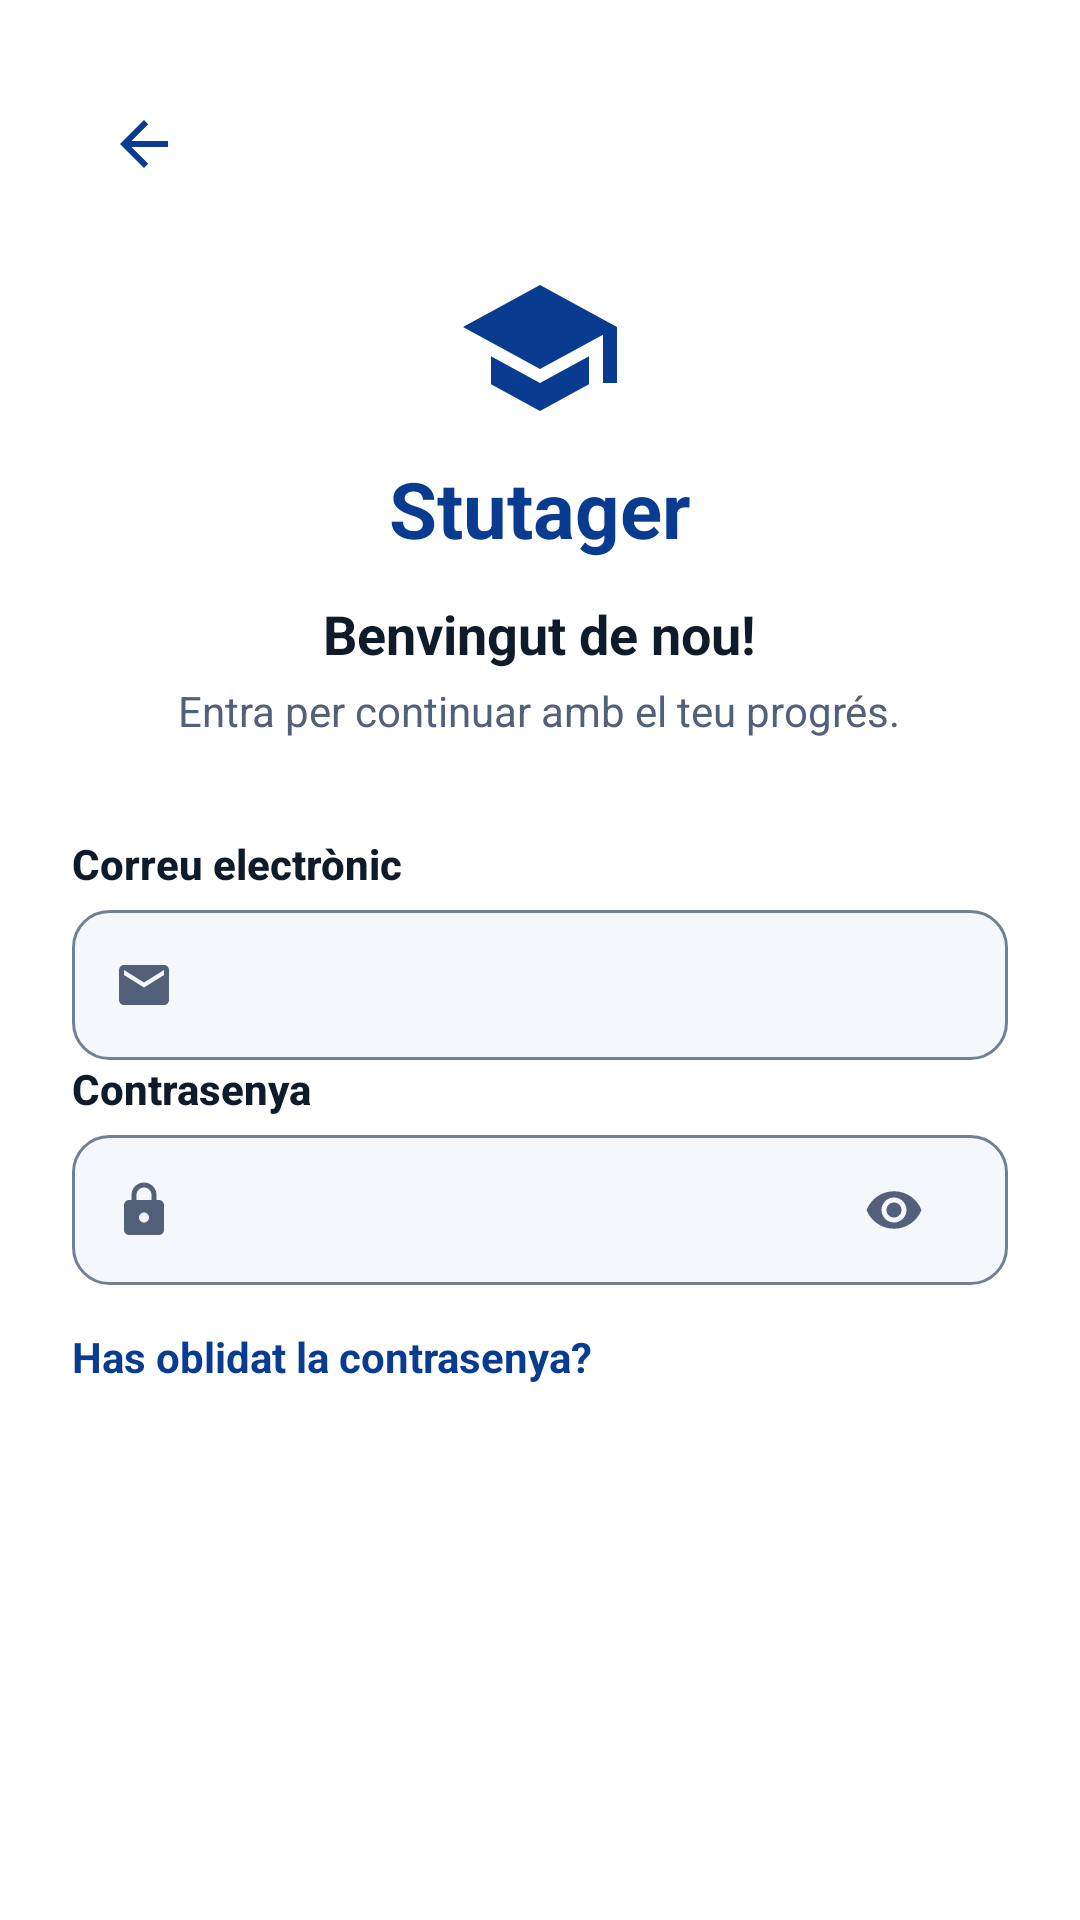

Icon bounding boxes for this 1080px x 1920px phone screenshot, format (x1=x1, y1=y1, x2=x2, y2=y2):
email: (x1=119, y1=965, x2=169, y2=1005)
graduation cap: (x1=463, y1=285, x2=617, y2=411)
lock: (x1=124, y1=1182, x2=164, y2=1235)
Mostra la contrasenya: (x1=866, y1=1191, x2=922, y2=1229)
Torna enrere: (x1=120, y1=120, x2=168, y2=168)
